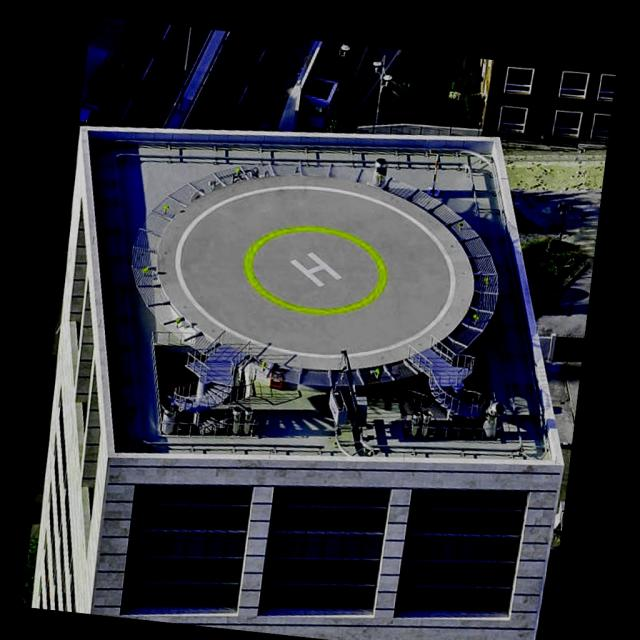helipad: (240, 220, 390, 316)
